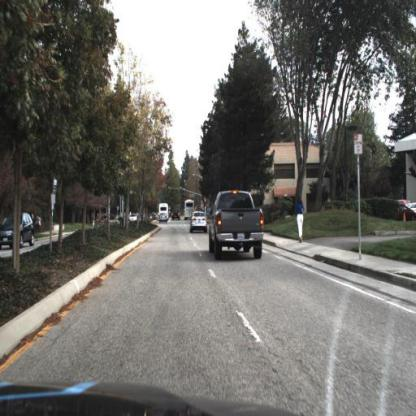car: (207, 188, 267, 262), (2, 212, 37, 248), (188, 211, 209, 235), (128, 211, 141, 227), (173, 210, 182, 222), (160, 214, 168, 224)
pedestrian: (296, 197, 306, 242), (37, 213, 45, 237)
